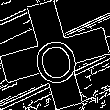O_N: (27, 24, 83, 86)
